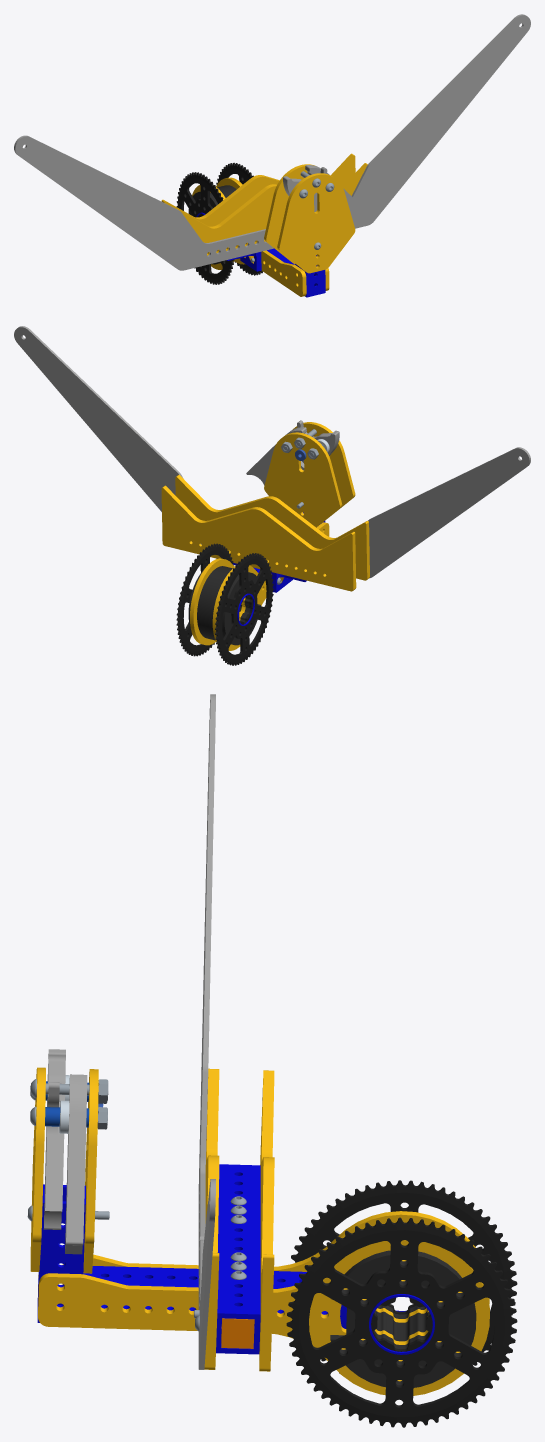
3 views of the same model, one above another, from view 1: azimuth 30°, elevation 25°; view 2: azimuth 150°, elevation 25°; view 3: azimuth 270°, elevation 25° (orthographic). The views are drawn at different scales.
Visible parts, largest first — view 1: Part 46 (×2), 157-25-CL-P-15 (×2), 157-25-CL-P-12 (×2), 64T #25 Plate Sprocket MAXSpline (REV-21-1972) (×2), 157-25-CL-P-6 (×2), 157-25-CL-P-3, 157-25-CL-P-16; view 2: Part 46 (×2), 157-25-CL-P-12 (×2), 157-25-CL-P-15 (×2), 64T #25 Plate Sprocket MAXSpline (REV-21-1972) (×2), 157-25-CL-P-6 (×2), 157-25-CL-P-7, 157-25-CL-P-18, 157-25-CL-P-16; view 3: 64T #25 Plate Sprocket MAXSpline (REV-21-1972) (×2), 157-25-CL-P-6 (×2), 157-25-CL-P-12 (×2), 157-25-CL-P-5, 157-25-CL-P-16 (×2), Part 46 (×2), 157-25-CL-P-18, 157-25-CL-P-15 (×2), 157-25-CL-P-4, 157-25-CL-P-3, Part 47, 157-25-CL-P-7.
Part boxes in pixels (x1=…): Part 46 (×2): x1=14, y1=14, x2=530, y2=270; 157-25-CL-P-15 (×2): x1=264, y1=164, x2=355, y2=273; 157-25-CL-P-12 (×2): x1=161, y1=153, x2=367, y2=255; 64T #25 Plate Sprocket MAXSpline (REV-21-1972) (×2): x1=176, y1=162, x2=262, y2=284; 157-25-CL-P-6 (×2): x1=192, y1=177, x2=329, y2=296; 157-25-CL-P-3: x1=295, y1=255, x2=325, y2=297; 157-25-CL-P-16: x1=305, y1=165, x2=367, y2=219; Part 46 (×2): x1=14, y1=326, x2=530, y2=578; 157-25-CL-P-12 (×2): x1=161, y1=475, x2=369, y2=591; 157-25-CL-P-15 (×2): x1=264, y1=422, x2=355, y2=527; 64T #25 Plate Sprocket MAXSpline (REV-21-1972) (×2): x1=176, y1=543, x2=273, y2=665; 157-25-CL-P-6 (×2): x1=190, y1=522, x2=329, y2=650; 157-25-CL-P-7: x1=197, y1=566, x2=241, y2=640; 157-25-CL-P-18: x1=222, y1=572, x2=260, y2=645; 157-25-CL-P-16: x1=246, y1=427, x2=306, y2=485; 64T #25 Plate Sprocket MAXSpline (REV-21-1972) (×2): x1=286, y1=1180, x2=517, y2=1427; 157-25-CL-P-6 (×2): x1=38, y1=1211, x2=489, y2=1395; 157-25-CL-P-12 (×2): x1=204, y1=1068, x2=274, y2=1371; 157-25-CL-P-5: x1=216, y1=1164, x2=260, y2=1354; 157-25-CL-P-16 (×2): x1=43, y1=1049, x2=87, y2=1254; Part 46 (×2): x1=198, y1=694, x2=215, y2=1369; 157-25-CL-P-18: x1=330, y1=1250, x2=476, y2=1387; 157-25-CL-P-15 (×2): x1=30, y1=1067, x2=98, y2=1273; 157-25-CL-P-4: x1=83, y1=1266, x2=346, y2=1328; 157-25-CL-P-3: x1=37, y1=1184, x2=85, y2=1322; Part 47: x1=221, y1=1318, x2=254, y2=1348; 157-25-CL-P-7: x1=346, y1=1309, x2=427, y2=1341.
Size of the model in its own units: 0.6858 by 0.2985 by 0.2818.
